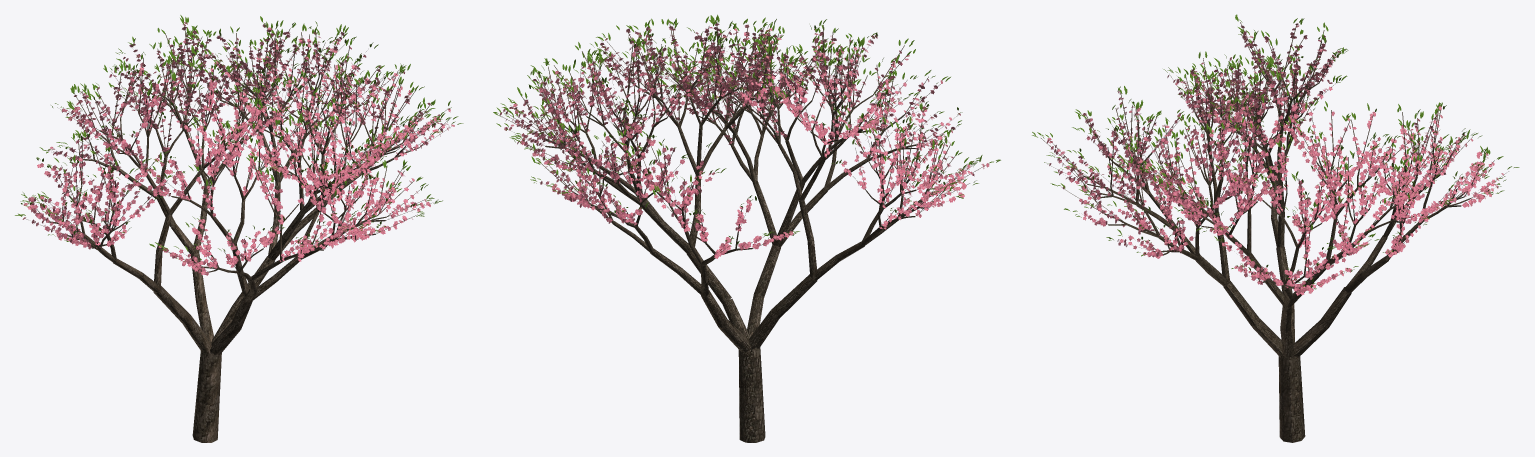
The model's file is yh_bitao.glb.
The picture shows the model from 3 angles, left to right: view 1: azimuth 30°, elevation 25°; view 2: azimuth 150°, elevation 25°; view 3: azimuth 270°, elevation 25°; orthographic projection. The views are drawn at different scales.
Visible parts, largest first — view 1: yh_bitao_花叶, yh_bitao_树皮; view 2: yh_bitao_花叶, yh_bitao_树皮; view 3: yh_bitao_花叶, yh_bitao_树皮.
Boxes of the visible parts, bbox=[...] form: yh_bitao_花叶: bbox=[15, 15, 463, 275]; yh_bitao_树皮: bbox=[26, 23, 451, 442]; yh_bitao_花叶: bbox=[493, 14, 1000, 258]; yh_bitao_树皮: bbox=[499, 22, 988, 442]; yh_bitao_花叶: bbox=[1032, 14, 1519, 295]; yh_bitao_树皮: bbox=[1041, 22, 1508, 442].
Size of the model in its own units: 1.2 by 1 by 1.17.
Materials: 2 (2 with a texture image).
